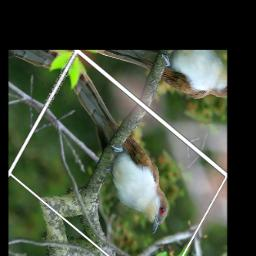Cuckoo: (33, 59, 198, 238)
